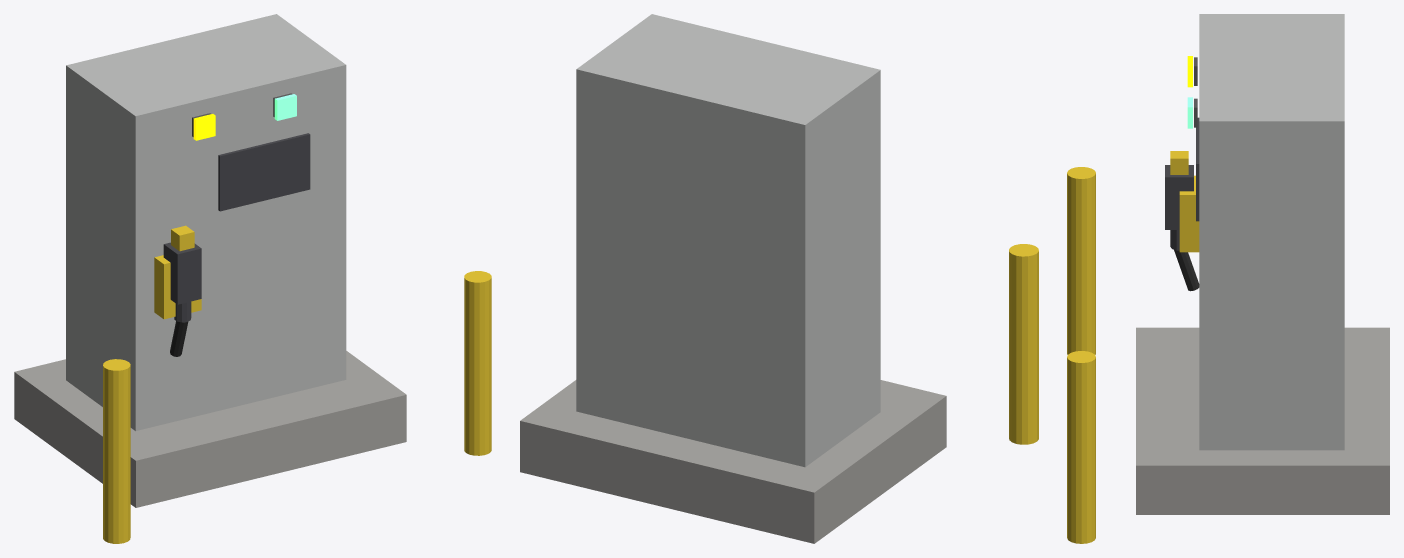
The model's file is EQ_LHD_Charger.glb.
3 views of the same model, side by side, from view 1: azimuth 30°, elevation 25°; view 2: azimuth 150°, elevation 25°; view 3: azimuth 270°, elevation 25° (orthographic). The views are drawn at different scales.
Parts seen in each view (by area): view 1: CH_Cabinet, CH_Connector; view 2: CH_Cabinet; view 3: CH_Cabinet, CH_Connector, CH_Cable.
Boxes of the visible parts, x1,y1,x2,y2 form: CH_Cabinet: (14,14,491,543); CH_Connector: (163,225,201,322); CH_Cabinet: (520,14,1038,543); CH_Cabinet: (1067,14,1389,543); CH_Connector: (1165,151,1193,250); CH_Cable: (1174,250,1199,291).
Bounding box in the file's own units: 2.56 × 2.3 × 1.78.
